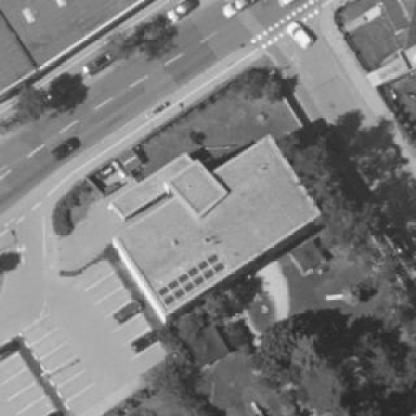solar-pv-panel: (158, 254, 226, 305)
